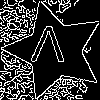V: (30, 25, 66, 72)
